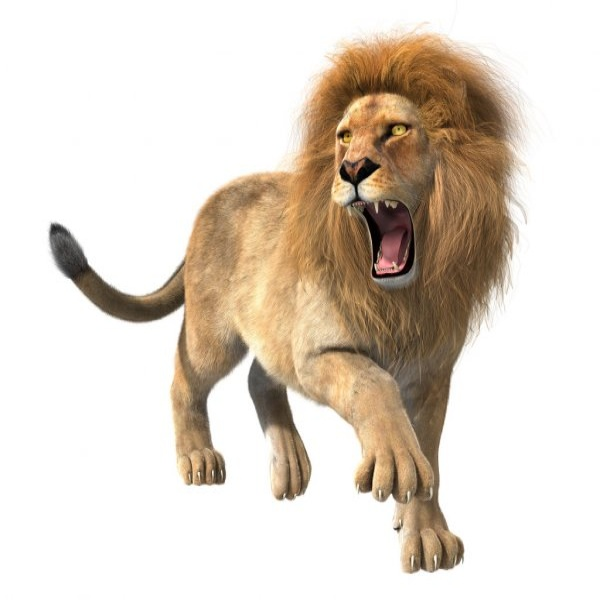Lion: (47, 18, 527, 575)
